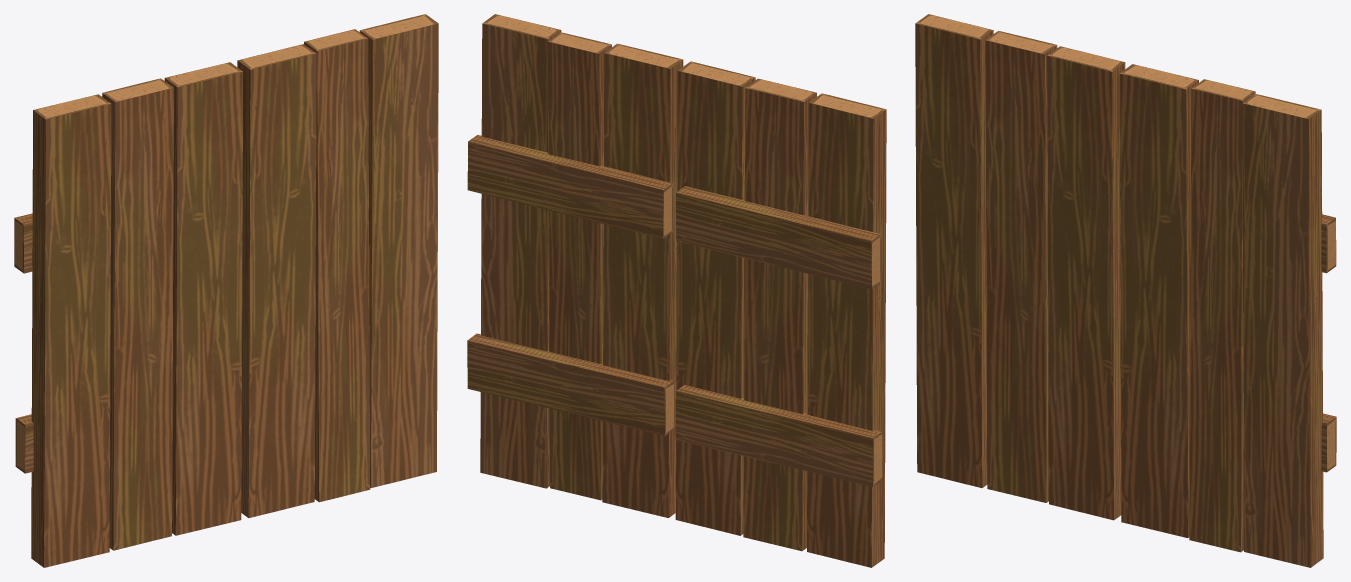
Rendered from WindowShutters_Wide_Flat_Closed.gltf.
The picture shows the model from 3 angles, left to right: view 1: azimuth 30°, elevation 25°; view 2: azimuth 150°, elevation 25°; view 3: azimuth 330°, elevation 25°; orthographic projection.
Parts seen in each view (by area): view 1: WindowShutters_Wide_Flat_Closed; view 2: WindowShutters_Wide_Flat_Closed; view 3: WindowShutters_Wide_Flat_Closed.
Part boxes in pixels (<box>): WindowShutters_Wide_Flat_Closed: <box>14,14,438,567</box>; WindowShutters_Wide_Flat_Closed: <box>467,14,886,567</box>; WindowShutters_Wide_Flat_Closed: <box>915,14,1336,567</box>.
Size of the model in its own units: 1.35 by 1.42 by 0.1358.
1 material, 1 textured.
